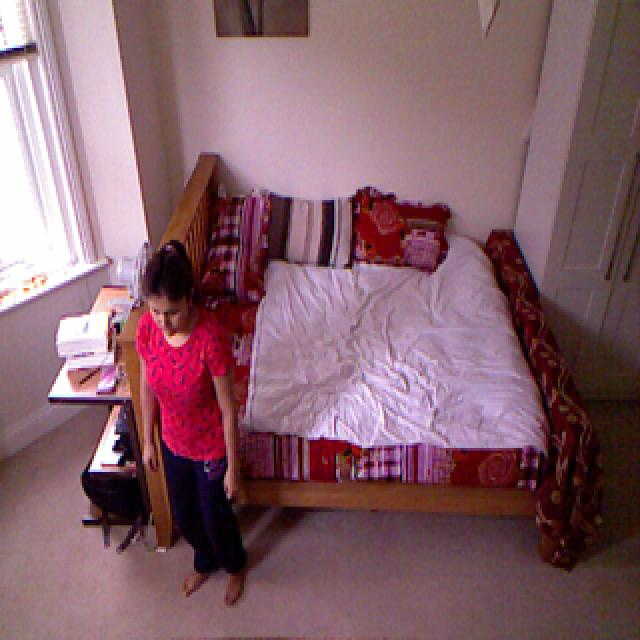standing: (130, 248, 256, 608)
